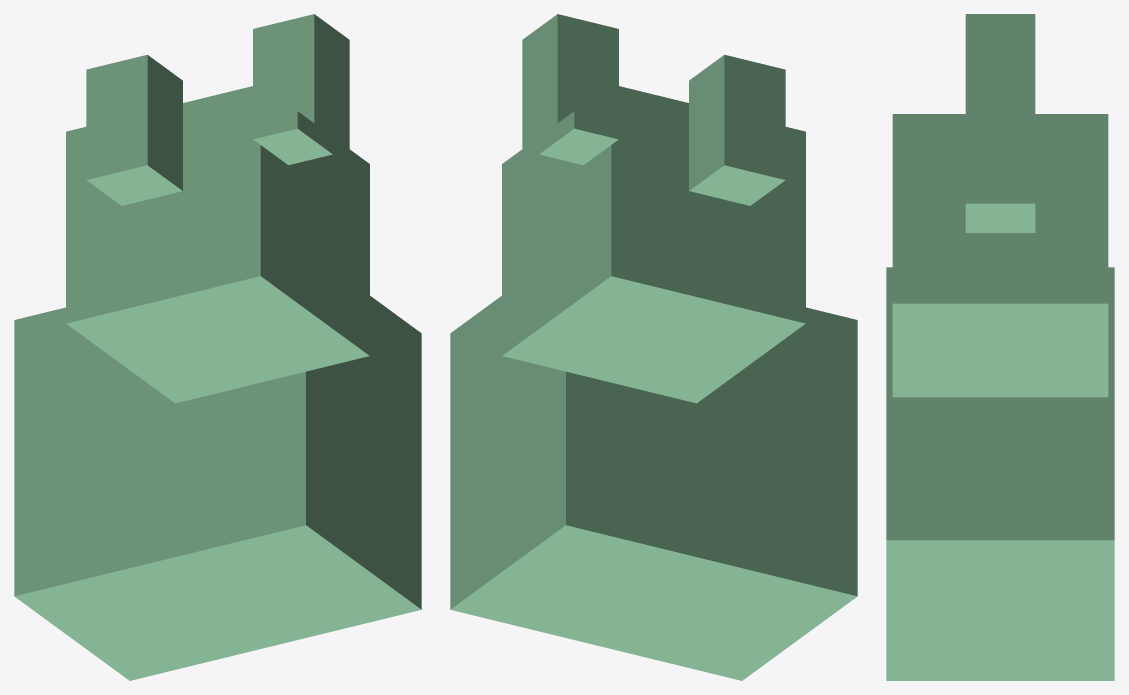
File: creature.gltf
3 views of the same model, side by side, from view 1: azimuth 30°, elevation 25°; view 2: azimuth 150°, elevation 25°; view 3: azimuth 270°, elevation 25° (orthographic).
Visible parts, largest first — view 1: Creature; view 2: Creature; view 3: Creature.
Part boxes in pixels (x1,y1,x2,y2): Creature: (14,14,421,680); Creature: (450,14,857,680); Creature: (886,14,1114,680).
Bounding box in the file's own units: 1.05 × 1.88 × 0.72.
